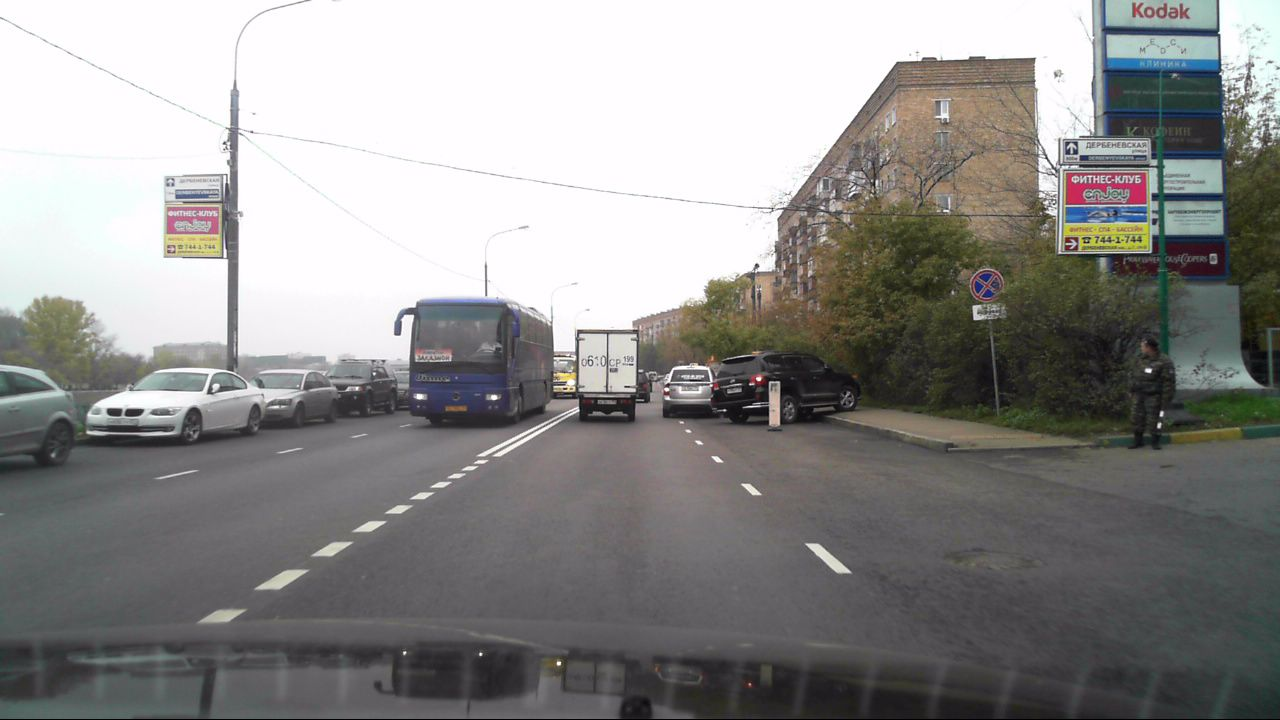No Parking: (970, 265, 1004, 301)
